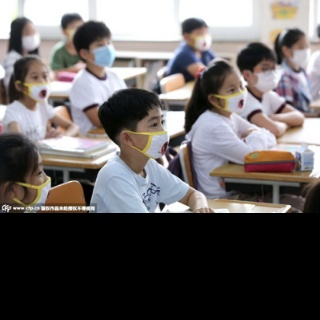with_mask: (23, 161, 52, 212), (142, 114, 170, 161), (26, 70, 52, 104), (224, 82, 249, 116), (256, 63, 281, 95), (92, 37, 116, 69), (20, 27, 41, 52), (292, 42, 312, 67), (194, 28, 213, 53)
